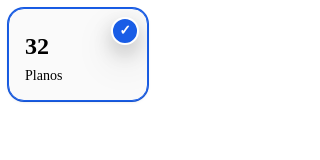
Test: MaskedCards — seleção › não controlada: selectable + defaultSelected + toggle por clique
Click the radio button.
click(78, 54)  # box [8,8,148,101]
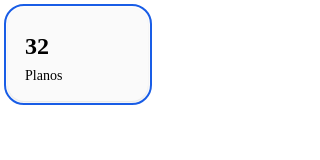
Expected: the radio button is not checked, [8,8,148,101]
